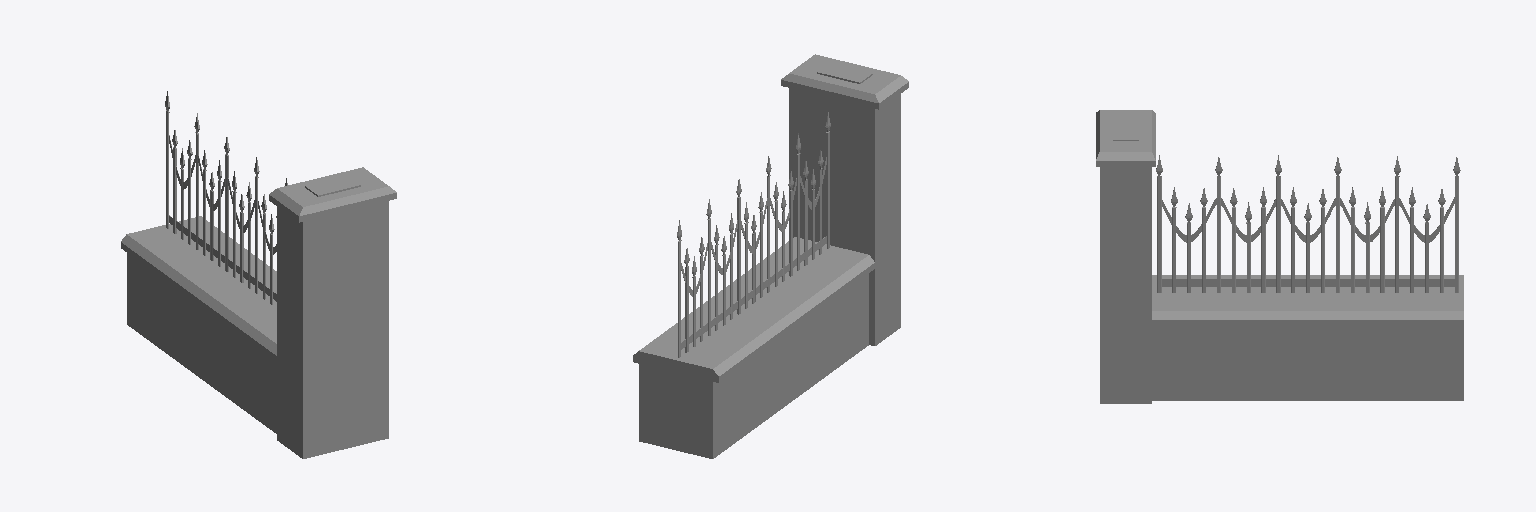
Rendered from wallv2.obj.
3 renders of one model, left to right at view 1: azimuth 30°, elevation 25°; view 2: azimuth 150°, elevation 25°; view 3: azimuth 270°, elevation 25°, orthographic.
Parts seen in each view (by area): view 1: Cube.001; view 2: Cube.001; view 3: Cube.001.
Part boxes in pixels (left/top/right/bottom): Cube.001: left=121, top=91, right=396, bottom=458; Cube.001: left=633, top=54, right=908, bottom=458; Cube.001: left=1096, top=110, right=1463, bottom=403.
Bounding box in the file's own units: 0.6318 × 1.56 × 2.06.